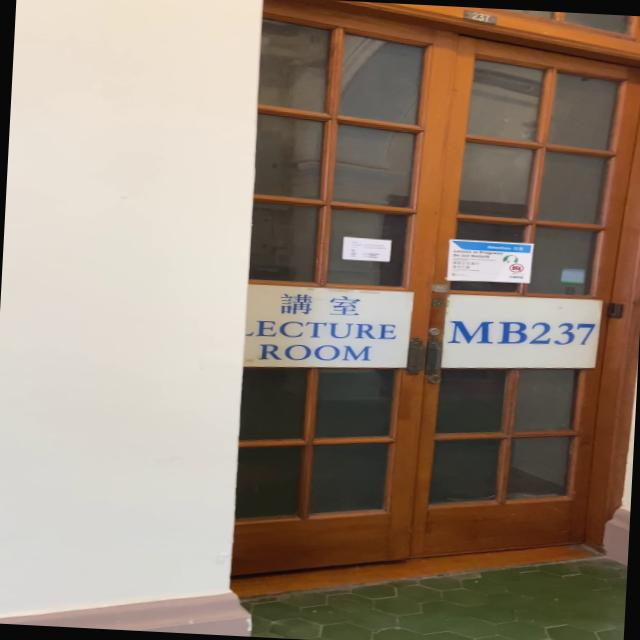room237: (462, 9, 496, 25)
room237Window: (442, 296, 602, 368)
